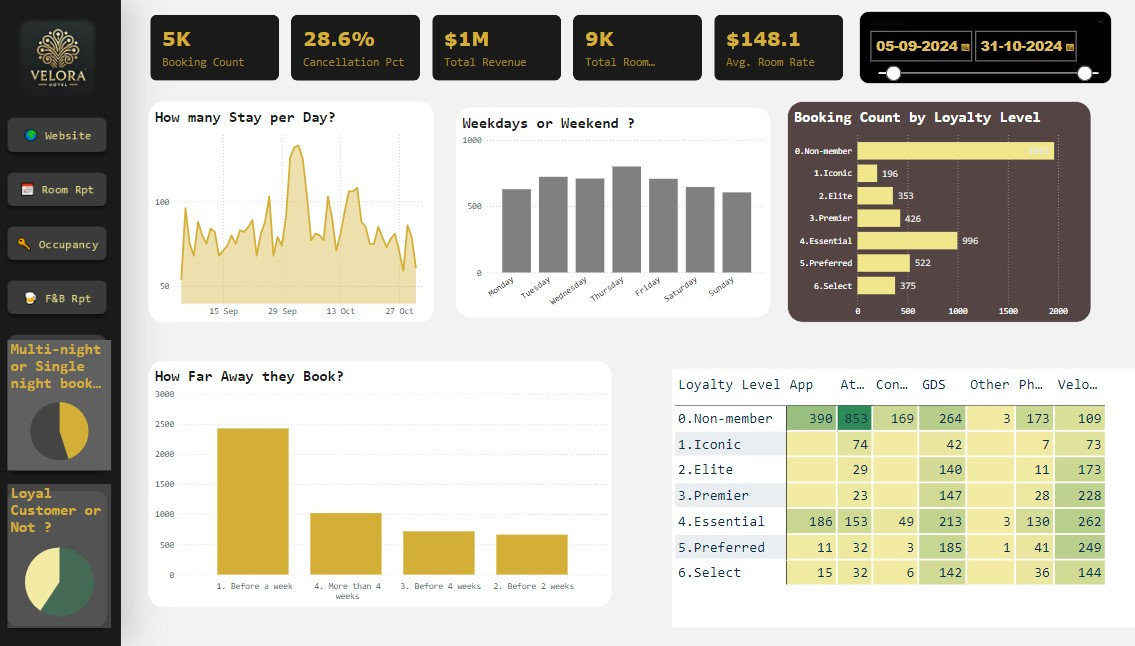

Layout of this report page (visuals, bound fields, positions):
{"tool":"powerbi","page":{"name":"Bookings Report","canvas":[1920,1080],"ordinal":0},"visuals":[{"type":"cardVisual","fields":{"Data":["bookings.Booking Count","bookings.Cancellation Pct","bookings.Total Revenue","bookings.Total Room Nights","bookings.Avg. Room Rate"]},"box":[256,22,1168,120],"z":0},{"type":"lineChart","title":"How many Stay per Day?","fields":{"Y":["bookings.Booking Count"],"Category":["bookings.Stay Date"]},"box":[258,172,476,368],"z":1000},{"type":"slicer","fields":{"Values":["bookings.Stay Date"]},"box":[1442,22,420,120],"z":2000},{"type":"clusteredColumnChart","title":"Weekdays or Weekend ?","fields":{"Y":["bookings.Booking Count"],"Category":["bookings.Day Name"]},"box":[770,182,524,350],"z":2001},{"type":"clusteredBarChart","fields":{"Category":["bookings.Loyalty Level"],"Y":["bookings.Booking Count"]},"box":[1322,172,506,368],"z":2002},{"type":"clusteredColumnChart","title":"How Far Away they Book?","fields":{"Y":["bookings.Booking Count"],"Category":["bookings.How far away bucket"]},"box":[258,604,772,410],"z":2003},{"type":"pivotTable","fields":{"Rows":["bookings.Loyalty Level"],"Values":["bookings.Booking Count"],"Columns":["bookings.Booking Channel"]},"box":[1130,618,788,432],"z":2004},{"type":"pieChart","title":"Loyal Customer or Not ?","fields":{"Y":["bookings.Loyal Customer Booking Count","bookings.Not Loyal Customer Booking Count"]},"box":[22.5,810,172.5,240],"z":2006},{"type":"pieChart","title":"Multi-night or Single night booking ","fields":{"Y":["bookings.Single night booking count","bookings.Multi-night booking count"]},"box":[22.5,570,172.5,217.5],"z":2007}]}

Visuals, with their boxes in screenshot pixels (x1, y1, x2, y2):
cardVisual - bookings.Booking Count x bookings.Cancellation Pct: x1=117 y1=12 x2=774 y2=80
"How many Stay per Day?" lineChart: x1=118 y1=97 x2=386 y2=304
slicer - bookings.Stay Date: x1=784 y1=12 x2=1020 y2=80
"Weekdays or Weekend ?" clusteredColumnChart: x1=406 y1=102 x2=701 y2=299
clusteredBarChart - bookings.Loyalty Level x bookings.Booking Count: x1=717 y1=97 x2=1001 y2=304
"How Far Away they Book?" clusteredColumnChart: x1=118 y1=340 x2=553 y2=570
pivotTable - bookings.Loyalty Level x bookings.Booking Count: x1=609 y1=348 x2=1052 y2=590
"Loyal Customer or Not ?" pieChart: x1=0 y1=455 x2=83 y2=590
"Multi-night or Single night booking " pieChart: x1=0 y1=321 x2=83 y2=443
